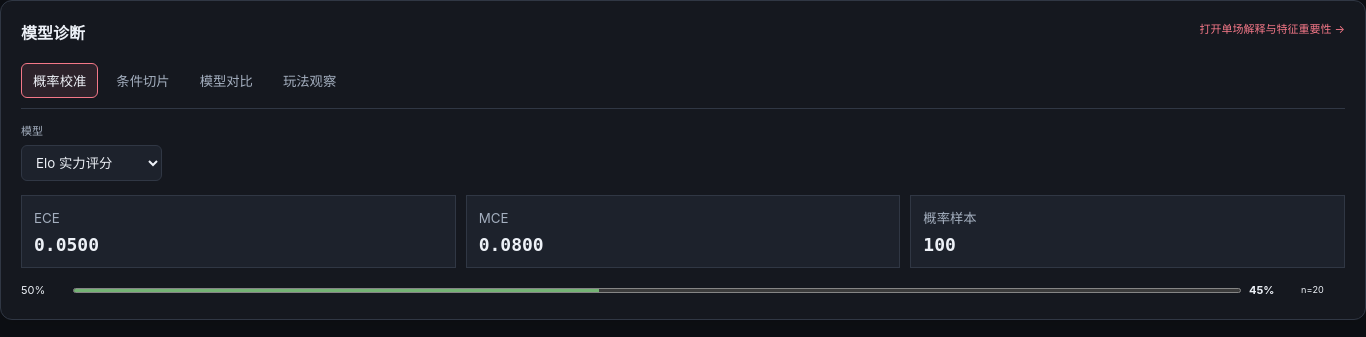
Scenario: ModelDiagnosticsPanel › 按需读取校准和条件切片接口
Expected: the text "0.0500" is shown, x1=34 y1=234 x2=99 y2=254
Click the tab "条件切片" at (143, 80), box x1=104 y1=63 x2=182 y2=98
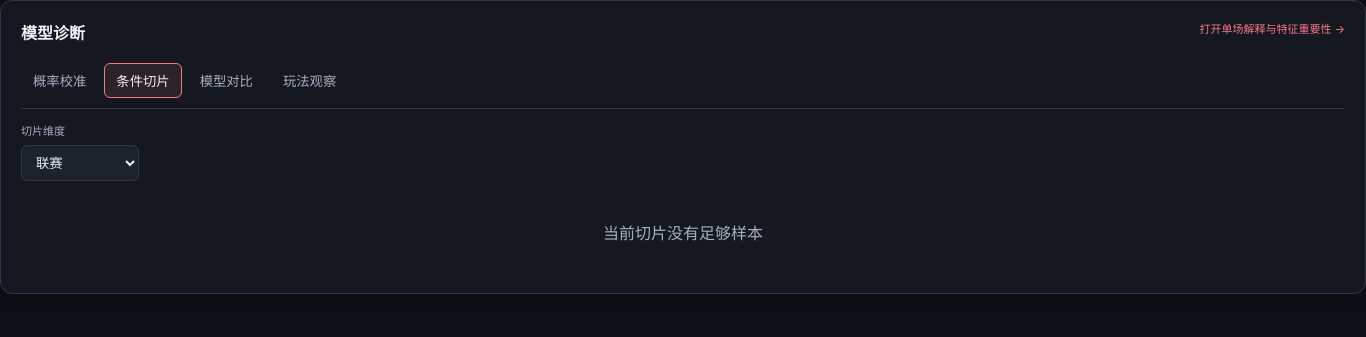
Expected: the text "当前切片没有足够样本" is shown, x1=603 y1=223 x2=763 y2=243
